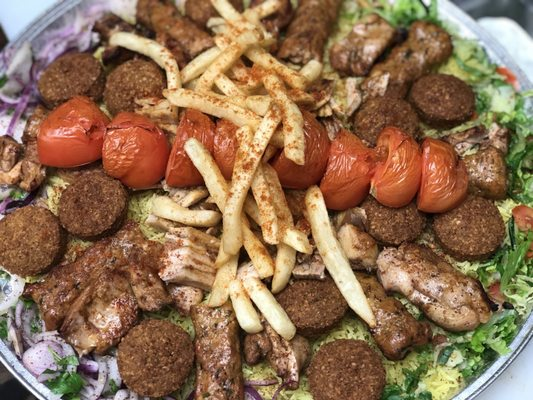pizza: (102, 111, 170, 189), (37, 96, 109, 169), (320, 129, 382, 212), (370, 126, 423, 208), (417, 137, 469, 215)
